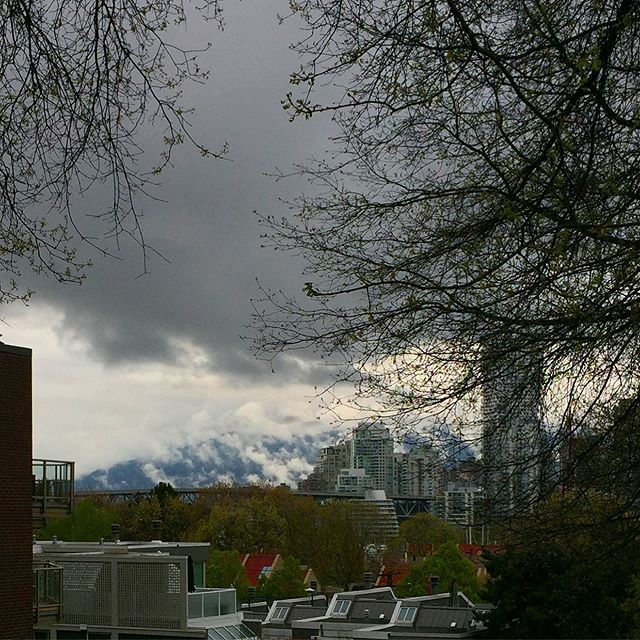building: (1, 538, 227, 640), (479, 296, 542, 508), (248, 585, 482, 640), (312, 422, 392, 497), (401, 440, 441, 490)
sky: (63, 23, 343, 453)
tree: (293, 1, 640, 429), (1, 1, 195, 334)
